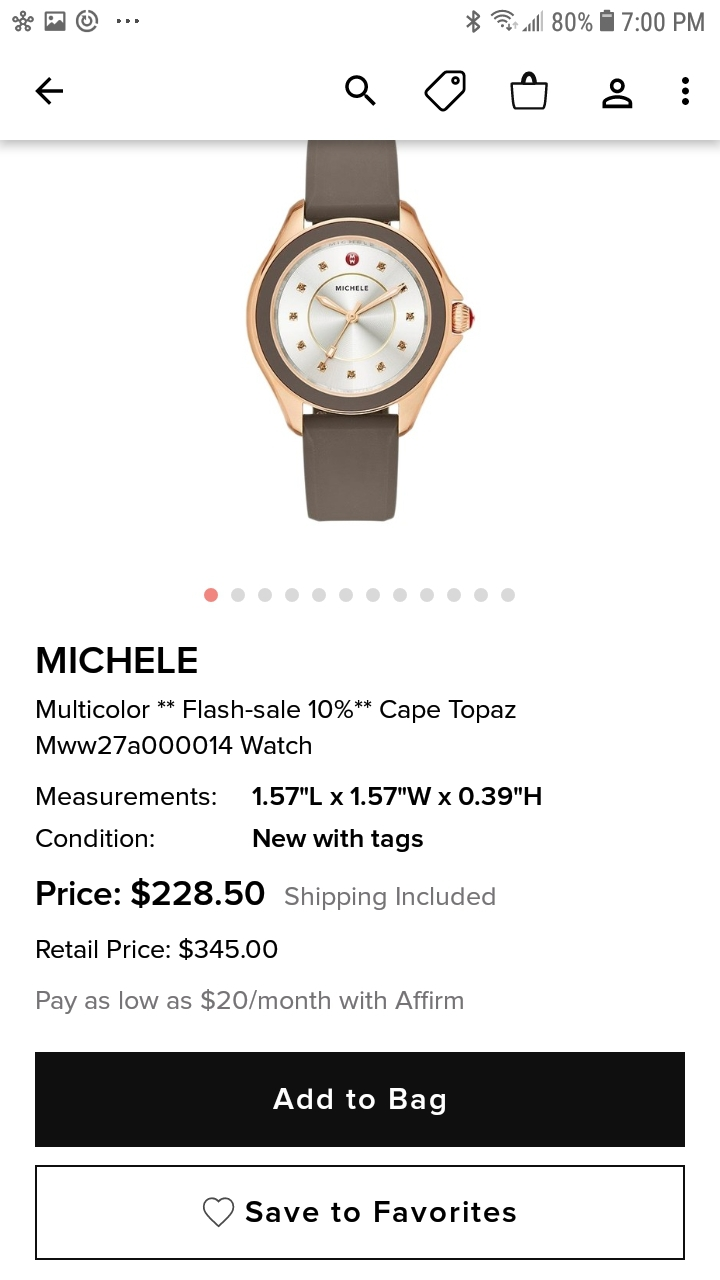Icon: (424, 71, 466, 113), (510, 72, 548, 111), (345, 75, 377, 107), (602, 78, 633, 110), (36, 78, 64, 105), (681, 77, 690, 106)
Image: (247, 141, 476, 522)
PageIndicator: (204, 588, 516, 604)
Text: (37, 699, 516, 755), (37, 990, 464, 1015), (37, 878, 266, 909), (252, 786, 542, 808), (37, 938, 278, 961), (284, 886, 496, 911), (38, 647, 198, 674), (253, 828, 424, 853), (37, 788, 217, 806), (36, 828, 156, 850)
TextButton: (36, 1165, 686, 1261), (35, 1051, 685, 1147)
UpperTaskBar: (1, 1, 720, 34)
